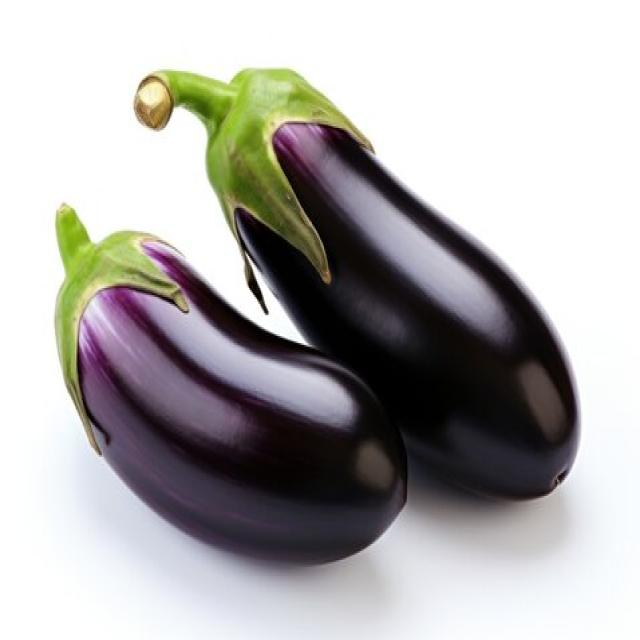Eggplant: (131, 64, 581, 501), (52, 199, 408, 565)
